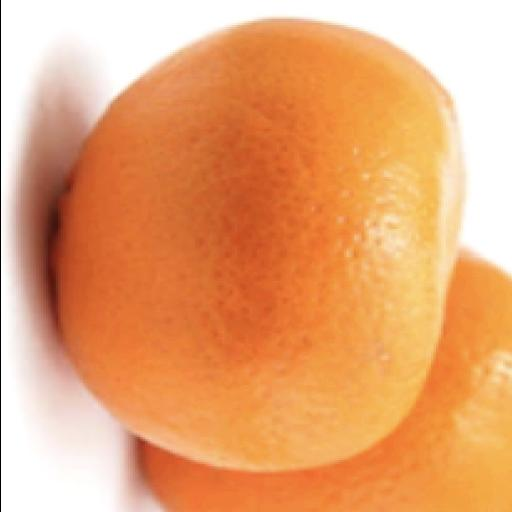orange: (53, 21, 462, 470), (142, 254, 511, 511)
